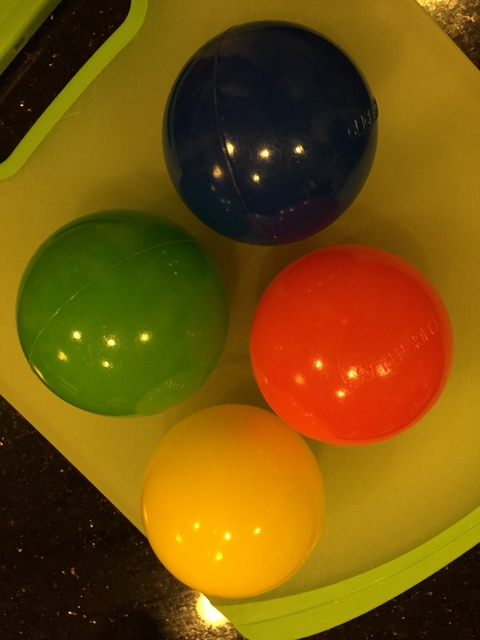Ball: (142, 402, 329, 595)
